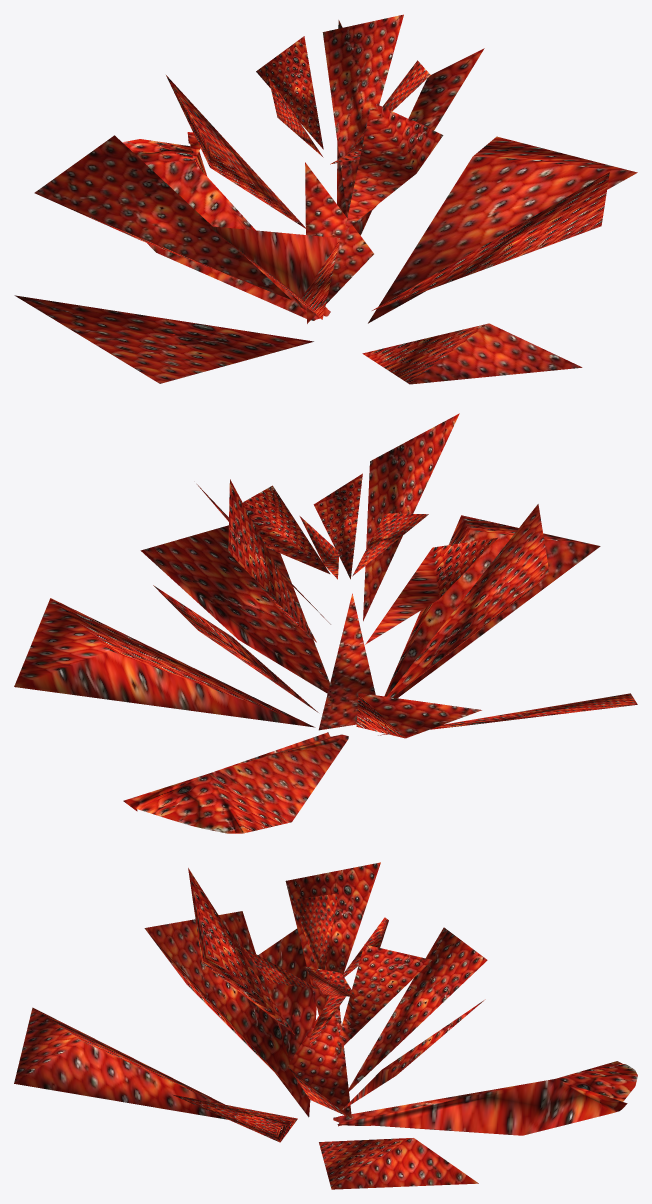
Rendered from Plant1_lod_100.obj.
3 renders of one model, top to bottom at view 1: azimuth 30°, elevation 25°; view 2: azimuth 150°, elevation 25°; view 3: azimuth 270°, elevation 25°, orthographic. The views are drawn at different scales.
Bounding box in the file's own units: 25.26 × 11.49 × 26.54.
